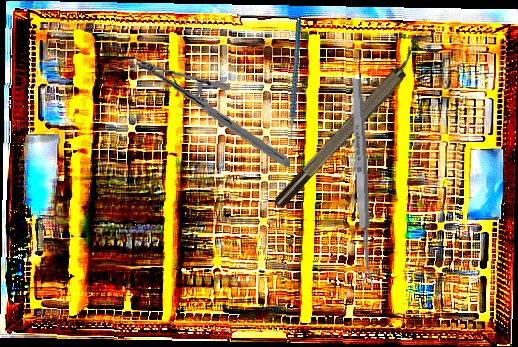Chopper: (249, 19, 346, 153)
Fixation Ring: (263, 28, 442, 213)
Needle Holder: (128, 58, 298, 167)
Surgical Spoon: (349, 78, 375, 289)
